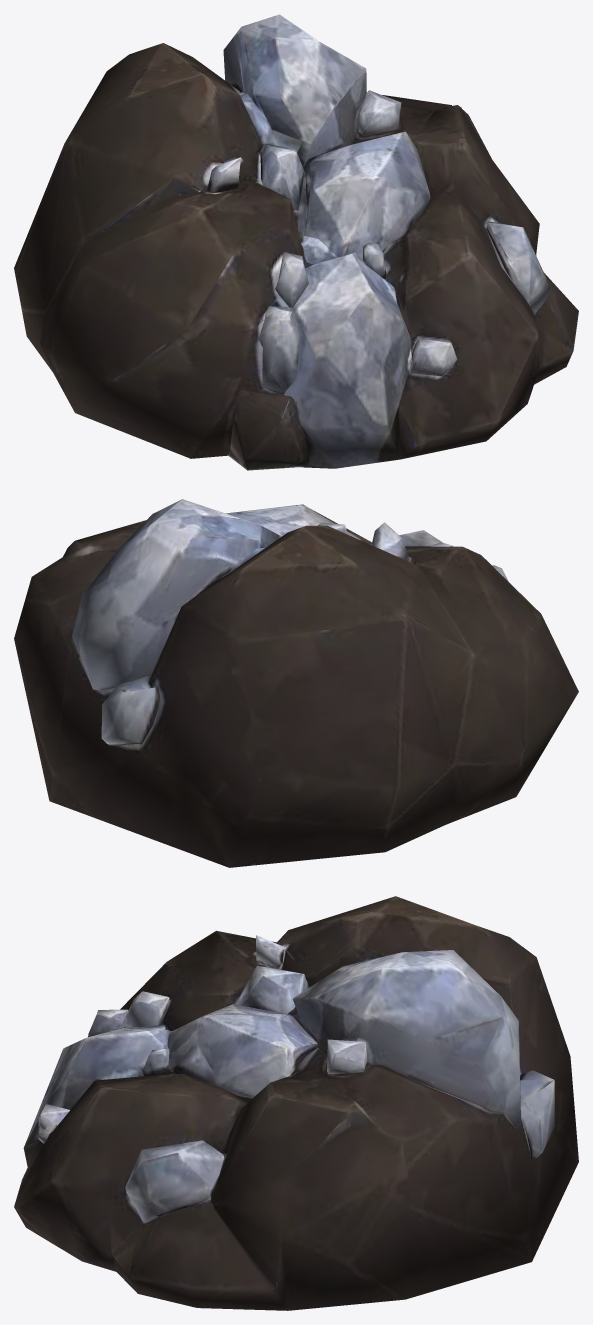
File: filon_argent.glb
The picture shows the model from 3 angles, top to bottom: view 1: azimuth 30°, elevation 25°; view 2: azimuth 150°, elevation 25°; view 3: azimuth 270°, elevation 25°; orthographic projection.
Size of the model in its own units: 0.9194 by 0.4946 by 0.9443.
1 material, 1 textured.
